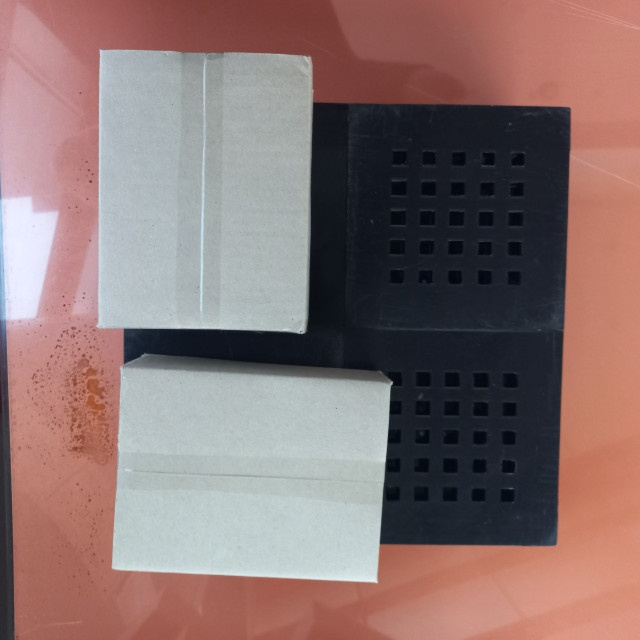box: (109, 352, 393, 584), (93, 46, 313, 332)
